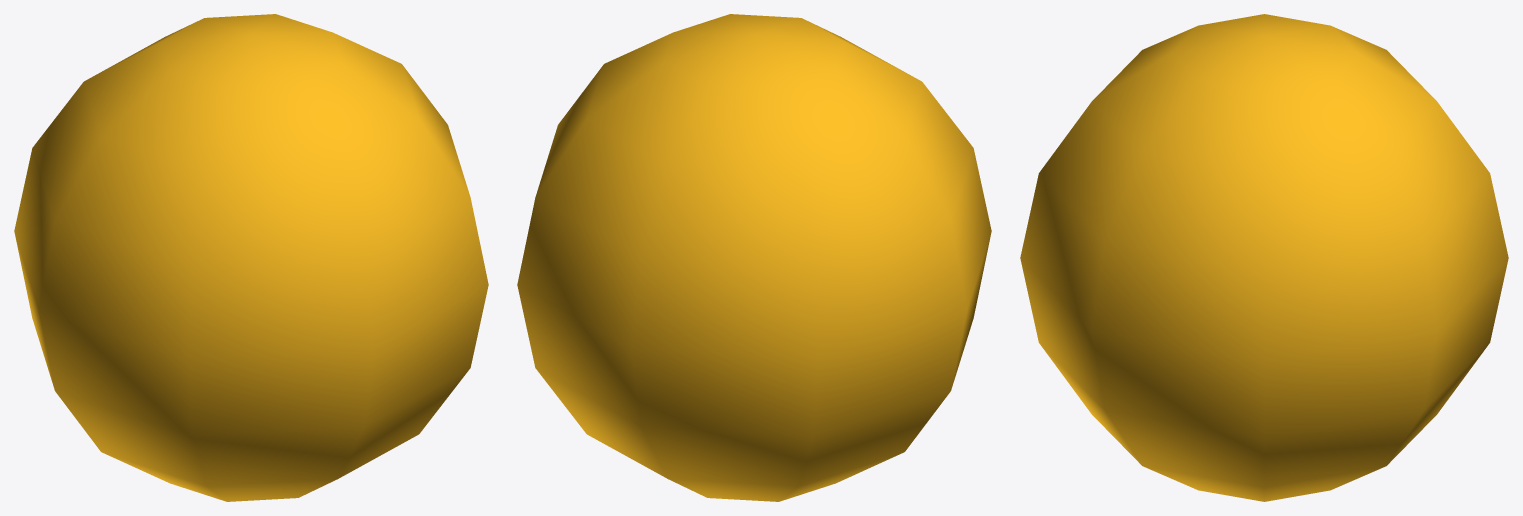
Rendered from 06cdf94d-e1ff-4b29-9a4e-6e9b77ea1e88.glb.
3 views of the same model, side by side, from view 1: azimuth 30°, elevation 25°; view 2: azimuth 150°, elevation 25°; view 3: azimuth 270°, elevation 25° (orthographic).
Visible parts, largest first — view 1: YellowBall; view 2: YellowBall; view 3: YellowBall.
Part boxes in pixels (left/top/right/bottom): YellowBall: left=14, top=14, right=488, bottom=501; YellowBall: left=517, top=14, right=991, bottom=501; YellowBall: left=1020, top=14, right=1508, bottom=501.
Bounding box in the file's own units: 0.0855 × 0.0855 × 0.0855.
1 material, 1 textured.
